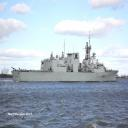Fragata: (12, 31, 120, 84)
